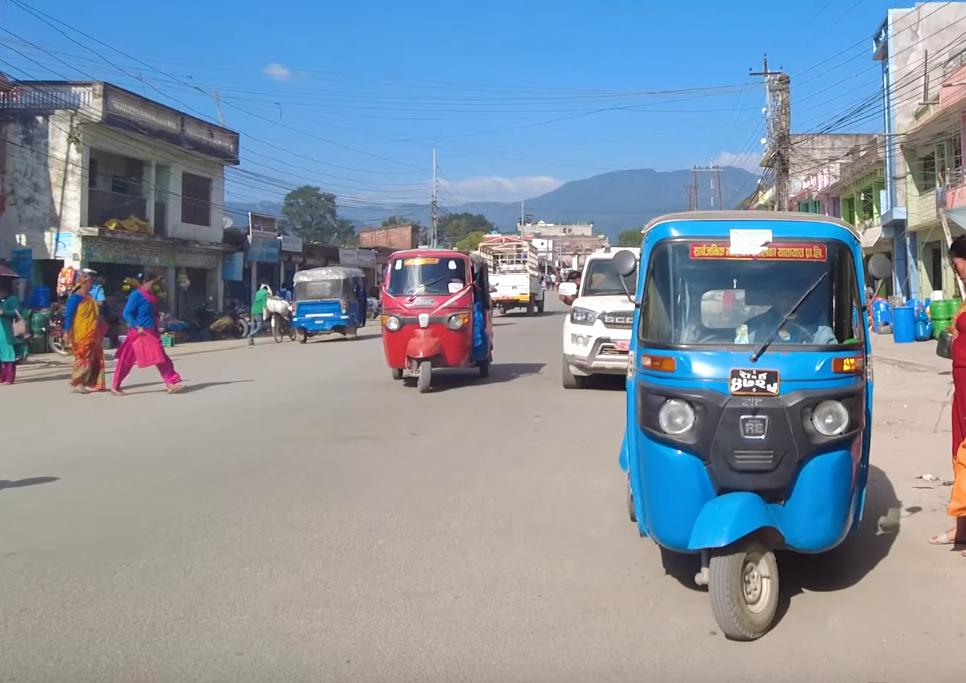SUV: (558, 245, 645, 391)
auto_rickshaw: (615, 201, 880, 654), (370, 244, 503, 400), (292, 262, 370, 344)
transport_vehicle: (477, 238, 550, 319)
